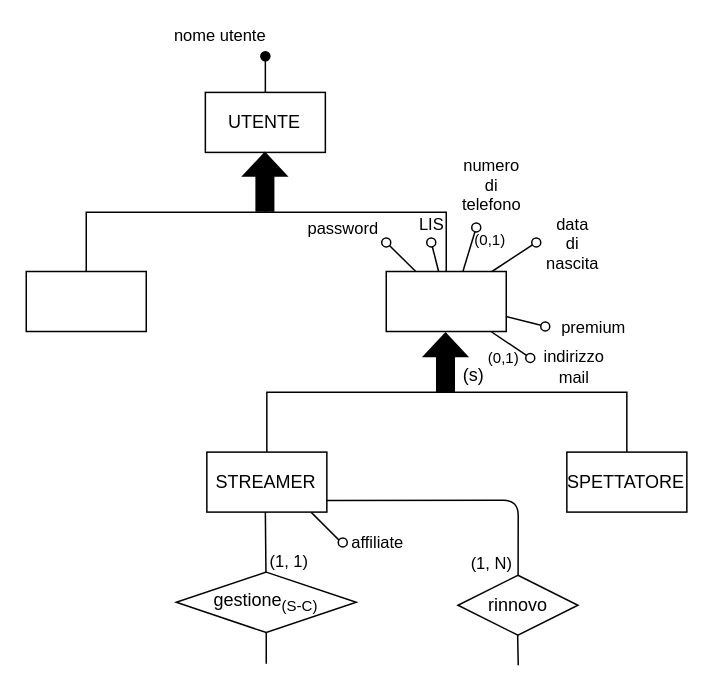
Some shapes in this 714 by 695 pixel diagram are drawn without their labels. Here are the shapes that lost their labels. From the top down, the centre of each, then its label:
At (x=264, y=181): "(e)".
At (x=85, y=301): "GUEST".
At (x=445, y=301): "REGISTRATO".
